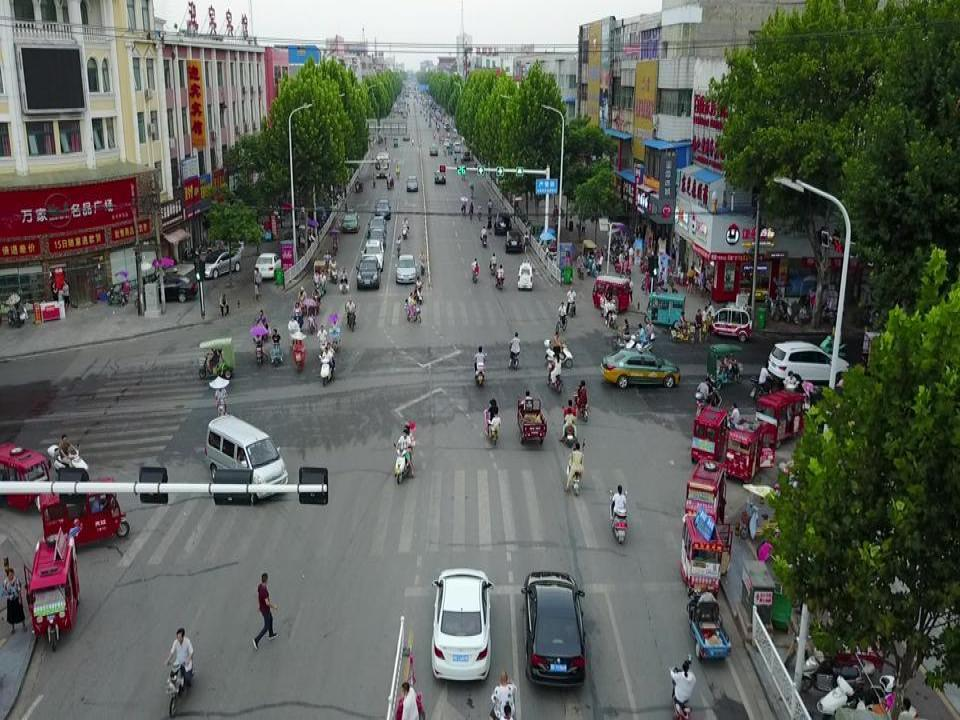bus: (375, 152, 389, 177)
car: (520, 571, 586, 688), (431, 568, 494, 680), (766, 340, 849, 387), (599, 343, 680, 389), (139, 273, 198, 303), (199, 248, 241, 279), (393, 443, 416, 484), (355, 256, 380, 289), (360, 239, 384, 272), (254, 253, 281, 280), (394, 255, 417, 284), (366, 228, 386, 251), (341, 210, 360, 234), (493, 212, 512, 235), (367, 216, 386, 239), (503, 231, 521, 253), (374, 200, 391, 220), (405, 176, 418, 192), (433, 169, 446, 184), (462, 151, 470, 161)
van: (204, 415, 288, 505)
